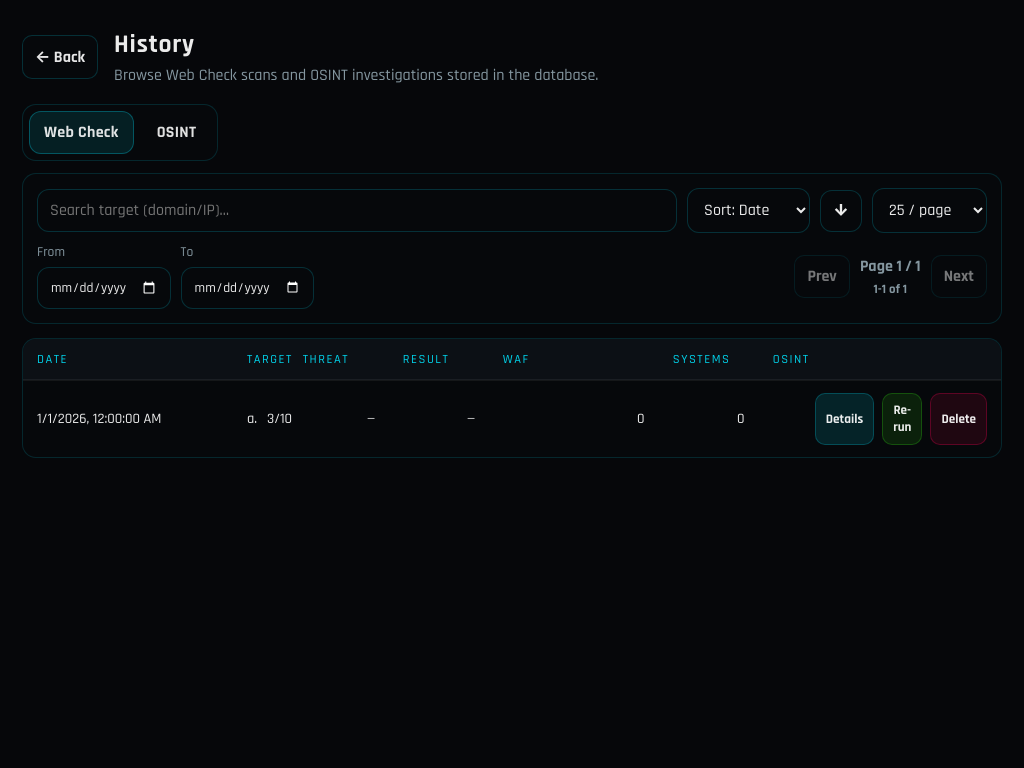
Test case: HistoryPage › opens details drawer
expect the text "a.com" is shown: met, box [247,410,257,428]
Step 1. Click the button "Details" → (844, 419), box [815,393,874,445]
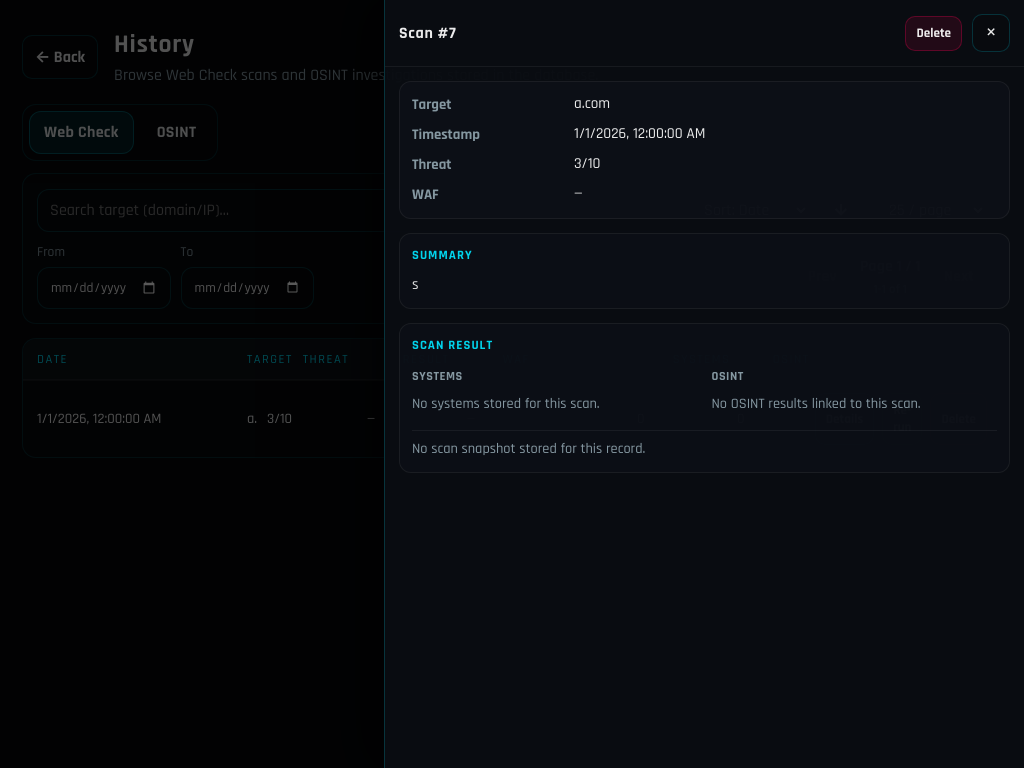
expect the text "Scan #7" is shown: met, box [399,22,456,44]
expect the text "a.com" is shown: met, box [574,94,610,113]
